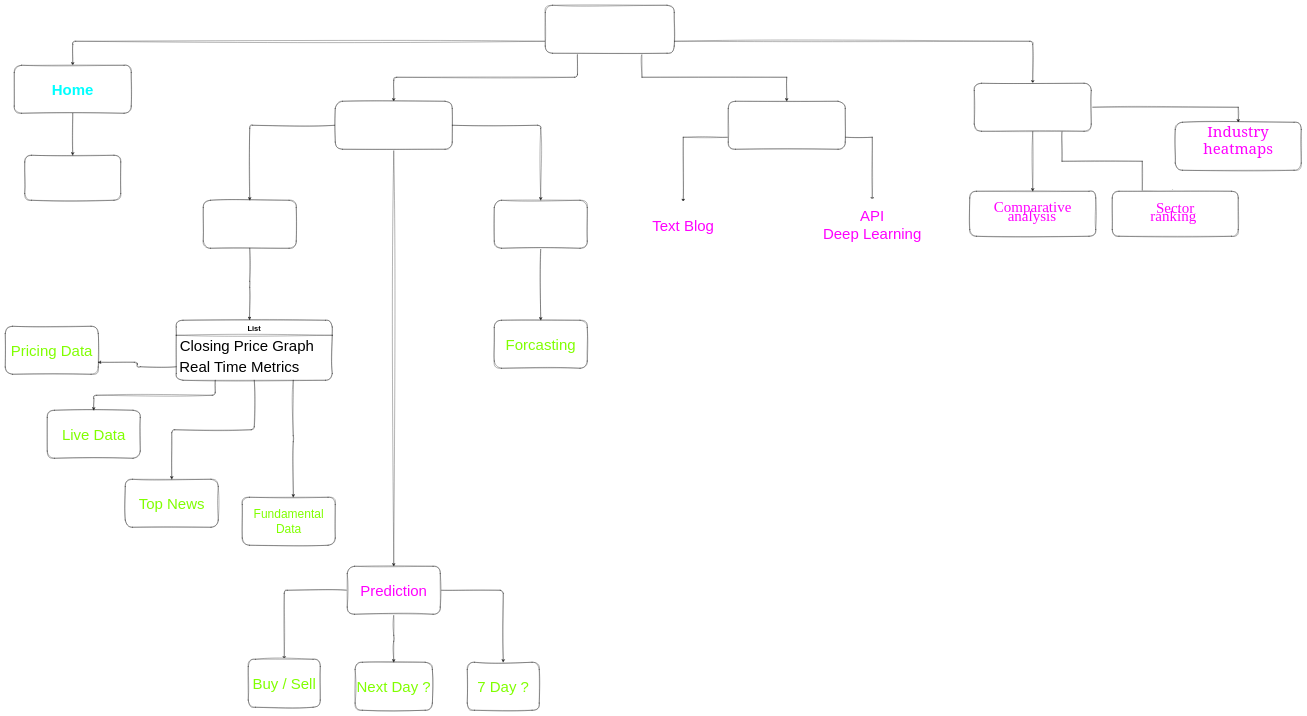
Image size: 1307x716. Some labels were removed from this diagram. Each missing label, with the box of its shape:
About The Page: (24, 155, 121, 200)
Main: (545, 5, 674, 53)
Real Time Data: (203, 200, 296, 248)
Sector: (974, 83, 1091, 131)
Sentiment: (728, 101, 845, 149)
Stock: (335, 101, 452, 149)
Visuals: (494, 200, 587, 248)
